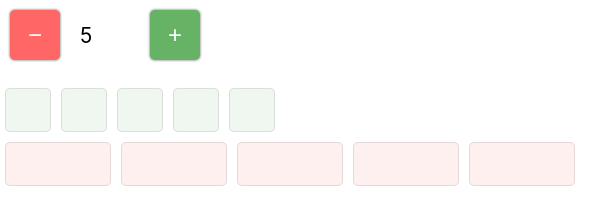
it: DenyStrike Component Test › Non-alphabetic strings are not allowed.
Type "가나다라마바사아차카a타파바하1234567890~!@#$%^&*()_+-=.z" into the field named "deny-strike-0" at (58, 164), box [5, 142, 111, 186]
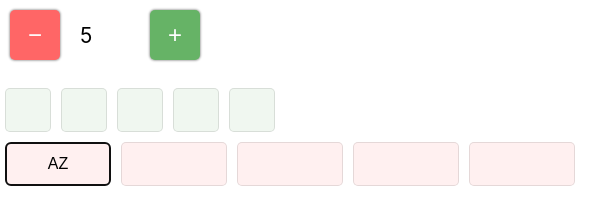
Check: the field named "deny-strike-0" holds "AZ", box [5, 142, 111, 186]
